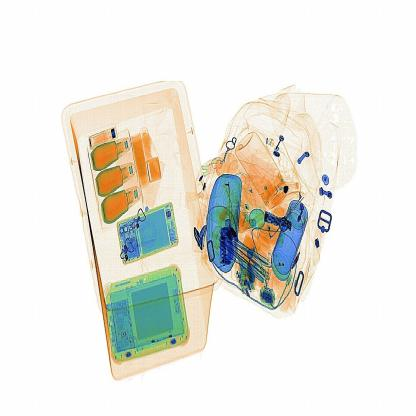scissors: (214, 222, 237, 276)
